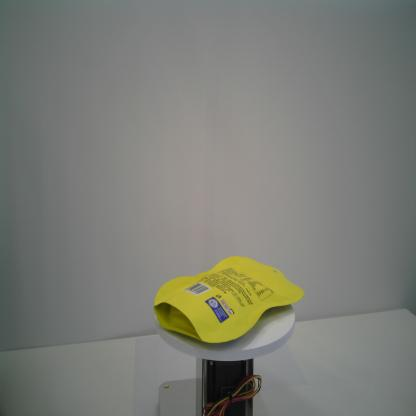Dried Fruit: (151, 254, 305, 344)
